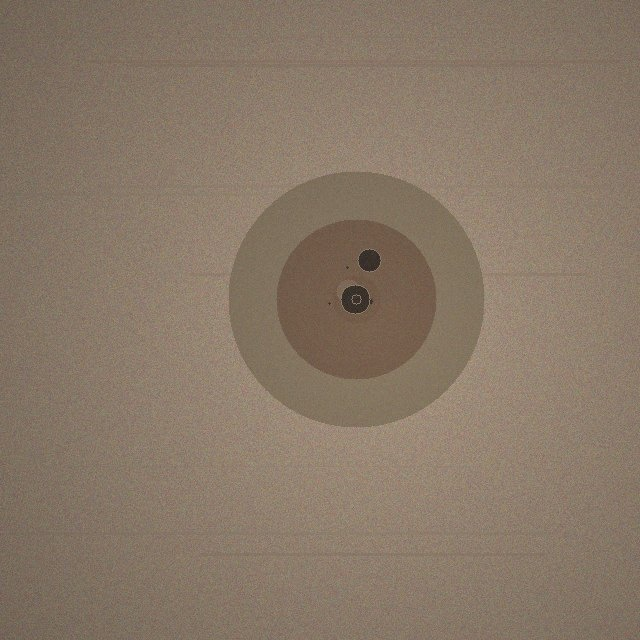shrinkage: (228, 171, 484, 427)
